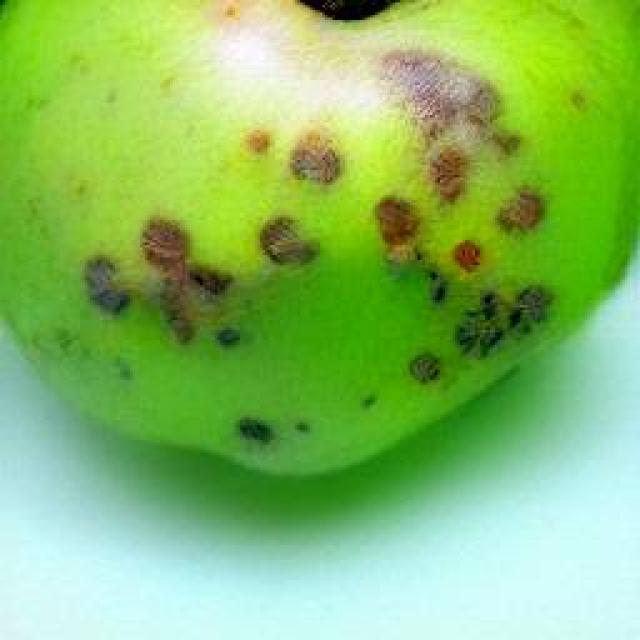defective: (0, 0, 638, 480)
